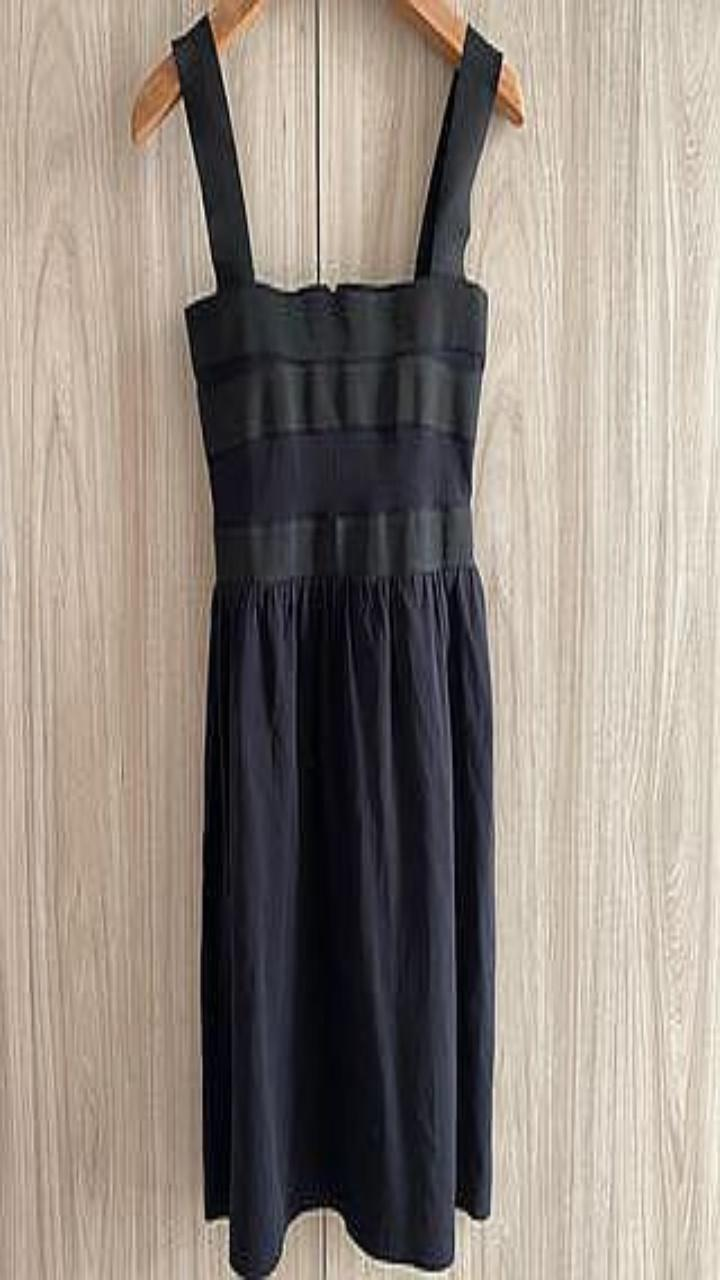Dresses: (172, 15, 500, 1277)
